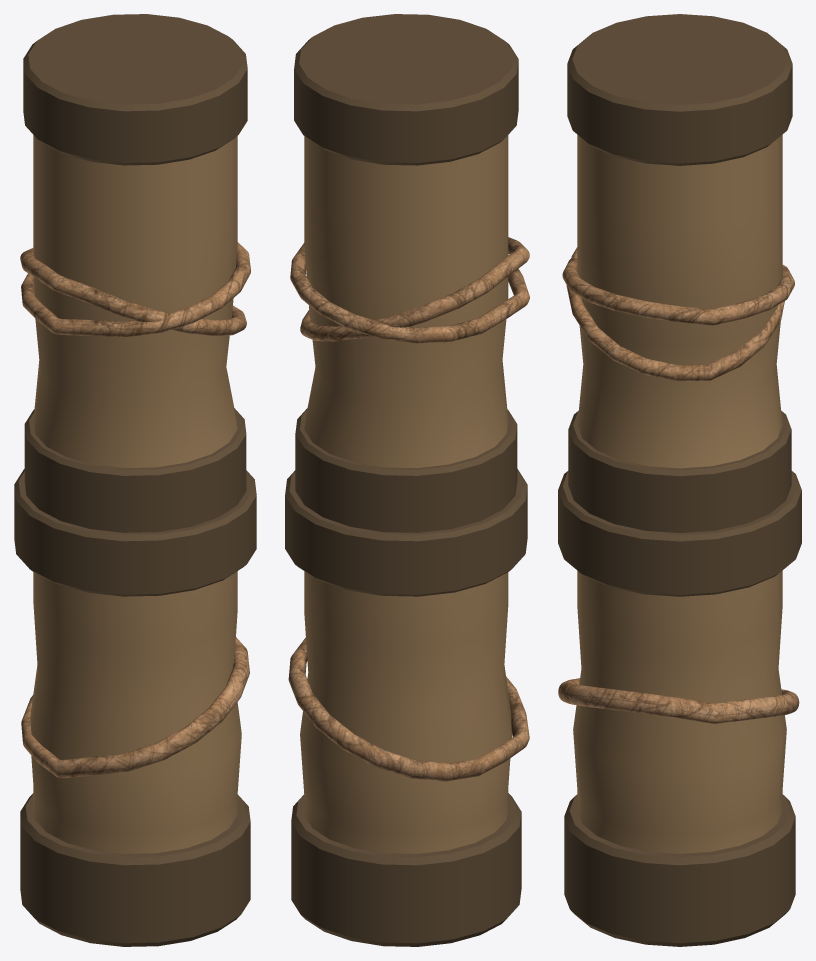
The model's file is Colomn_01.fbx.
3 views of the same model, side by side, from view 1: azimuth 30°, elevation 25°; view 2: azimuth 150°, elevation 25°; view 3: azimuth 270°, elevation 25° (orthographic).
Parts seen in each view (by area): view 1: pHelix5_curve3; view 2: pHelix5_curve3; view 3: pHelix5_curve3.
Part boxes in pixels (bbox=[...]): pHelix5_curve3: bbox=[14, 14, 256, 946]; pHelix5_curve3: bbox=[285, 14, 529, 946]; pHelix5_curve3: bbox=[558, 14, 801, 946].
Bounding box in the file's own units: 2.38 × 9.04 × 2.38.
Materials: 3 (1 with a texture image).
